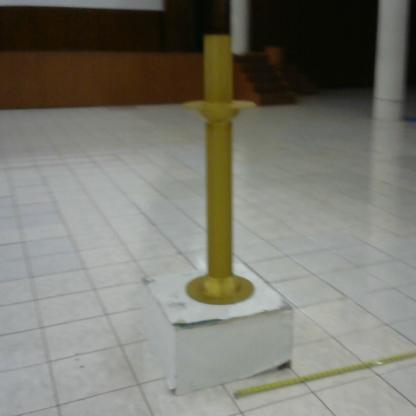pole: (177, 30, 264, 316)
